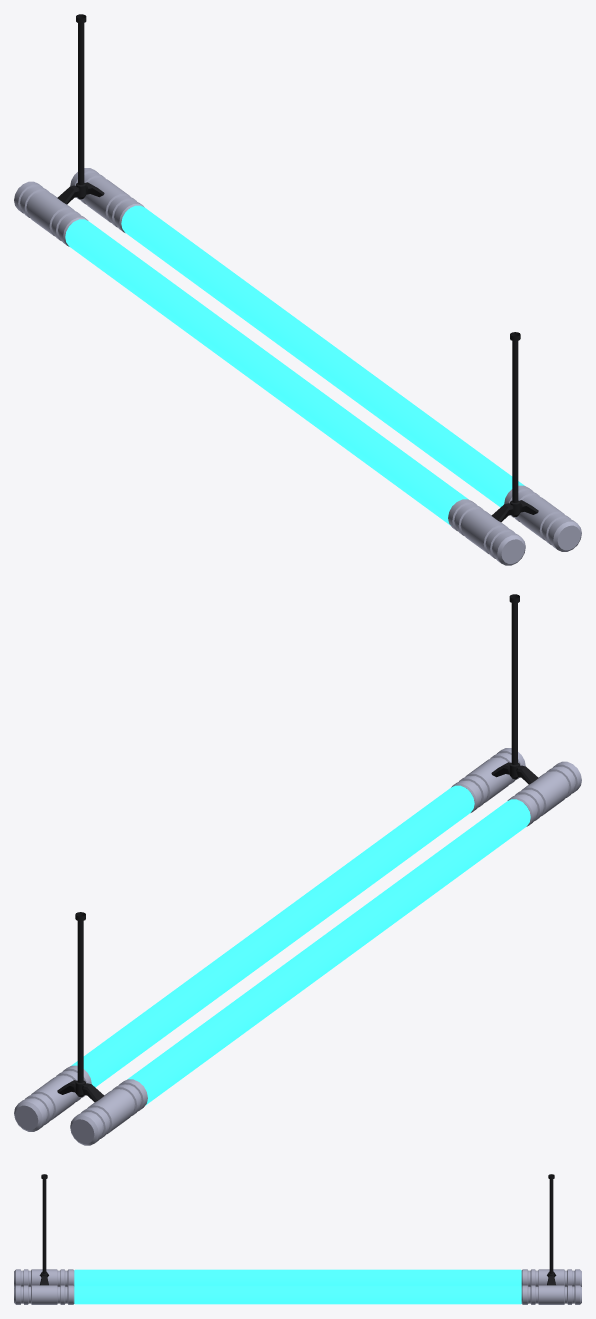
File: Light_Tube_01_Double.fbx
3 renders of one model, top to bottom at view 1: azimuth 30°, elevation 25°; view 2: azimuth 150°, elevation 25°; view 3: azimuth 270°, elevation 25°, orthographic. The views are drawn at different scales.
Parts seen in each view (by area): view 1: Light_Tube_01_Double.001; view 2: Light_Tube_01_Double.001; view 3: Light_Tube_01_Double.001.
Boxes of the visible parts, x1,y1,x2,y2 form: Light_Tube_01_Double.001: (14, 14, 581, 565); Light_Tube_01_Double.001: (14, 594, 581, 1145); Light_Tube_01_Double.001: (14, 1174, 581, 1304).
Bounding box in the file's own units: 0.2153 × 0.5005 × 2.14.
